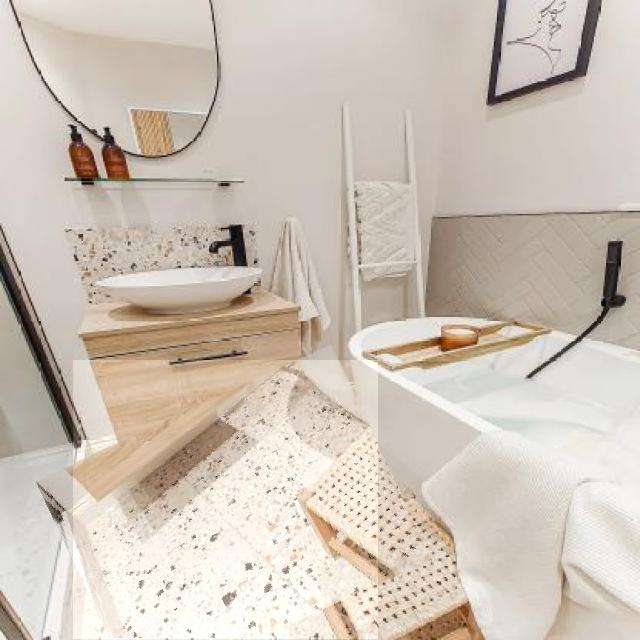floor: (74, 360, 378, 639)
